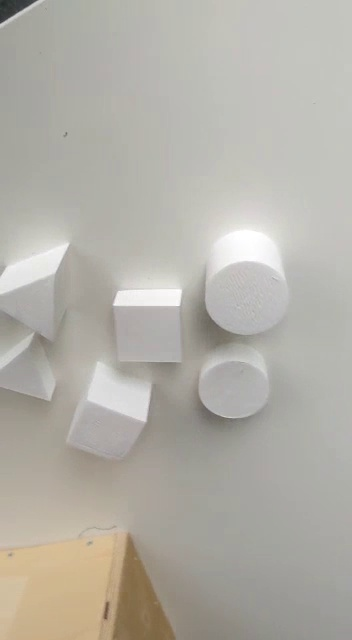Clyinder_short: (194, 341, 273, 422)
Cube: (61, 360, 156, 470)
Cube_short: (107, 282, 186, 367)
Cylinder: (201, 226, 292, 337)
Triangle: (1, 242, 78, 346)
Triangle_short: (1, 331, 67, 406)
